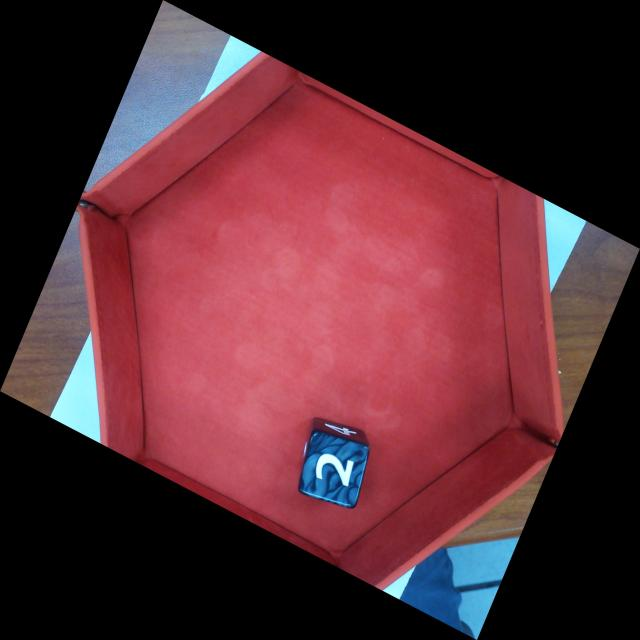dice: (295, 428, 370, 511)
